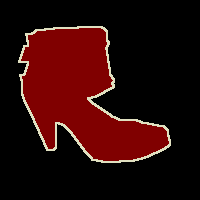shoe: (19, 26, 170, 162)
